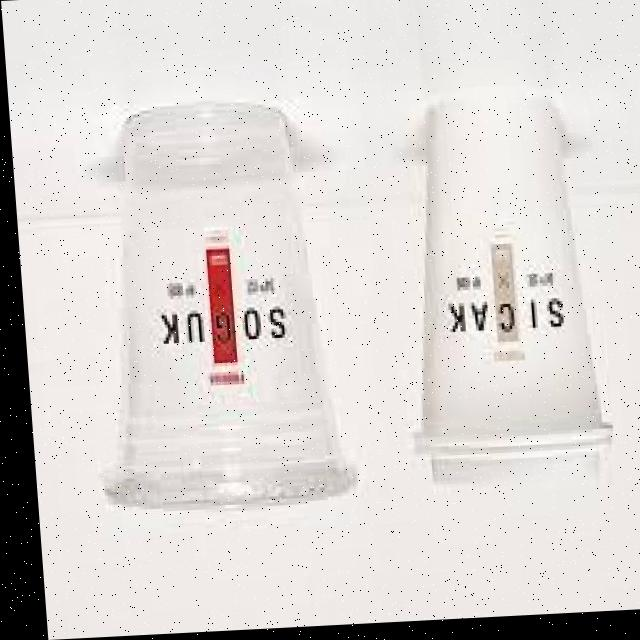cup: (54, 64, 358, 554), (357, 62, 623, 519)
